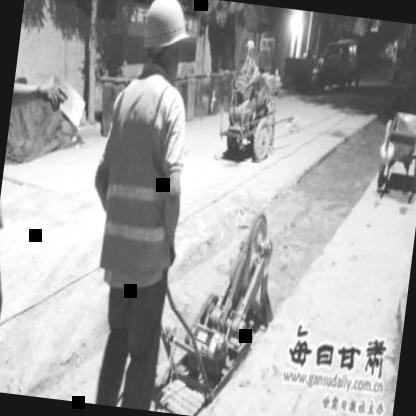helmet: (137, 0, 190, 66)
